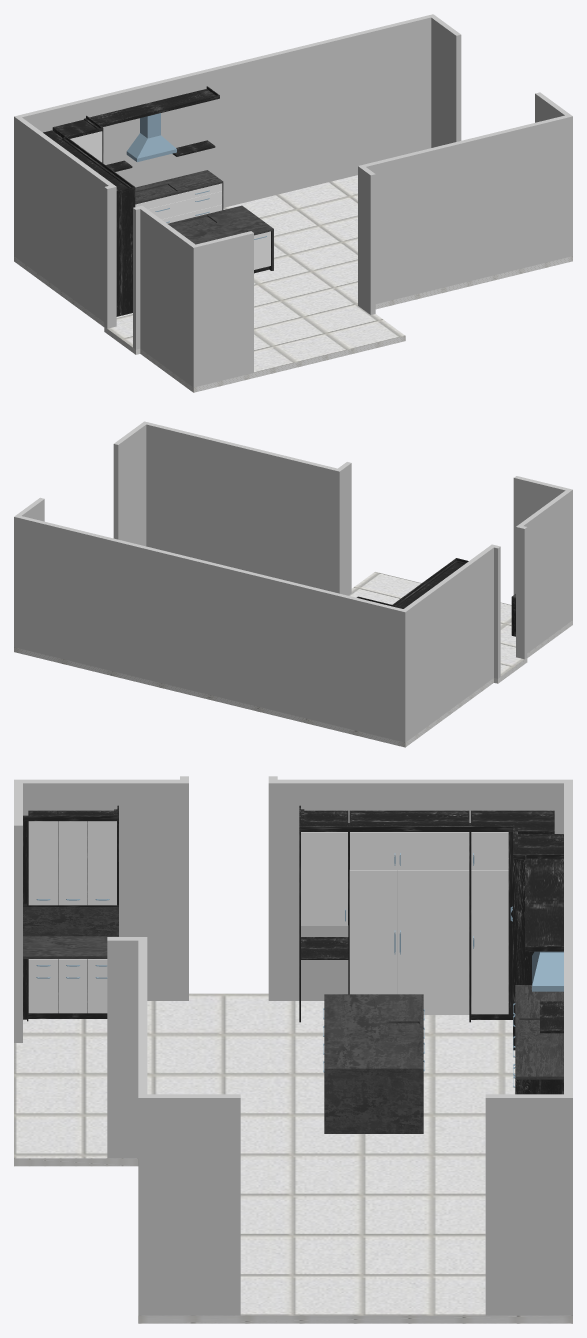
3 renders of one model, top to bottom at view 1: azimuth 30°, elevation 25°; view 2: azimuth 150°, elevation 25°; view 3: azimuth 270°, elevation 25°, orthographic. The views are drawn at different scales.
Parts seen in each view (by area): view 1: Layer:wall, Layer:wall.001, Layer:countertop, Layer:doors, Layer:buildup, Layer:fillers, Layer:cabinets, Layer:hatch; view 2: Layer:wall, Layer:wall.001, Layer:buildup, Layer:cabinets; view 3: Layer:wall.001, Layer:wall, Layer:doors, Layer:countertop, Layer:cabinets, Layer:fillers.002, Layer:buildup, Layer:fillers, Layer:countertop.001, Layer:LV, Layer:hatch, Layer:kick (+2 smaller).
Boxes of the visible parts, box(x1,y1,x2,y2) form: Layer:wall: box(14, 14, 572, 387); Layer:wall.001: box(14, 175, 572, 392); Layer:countertop: box(135, 170, 273, 244); Layer:doors: box(70, 131, 270, 269); Layer:buildup: box(62, 86, 219, 194); Layer:fillers: box(70, 131, 271, 316); Layer:cabinets: box(43, 119, 215, 190); Layer:hatch: box(126, 113, 176, 162); Layer:wall: box(14, 421, 572, 742); Layer:wall.001: box(14, 572, 572, 747); Layer:buildup: box(356, 558, 468, 607); Layer:cabinets: box(396, 562, 464, 608); Layer:wall.001: box(14, 993, 572, 1323); Layer:wall: box(14, 776, 572, 1315); Layer:doors: box(28, 821, 508, 1014); Layer:countertop: box(23, 936, 563, 1079); Layer:cabinets: box(28, 810, 563, 1033); Layer:fillers.002: box(324, 1068, 423, 1133); Layer:buildup: box(23, 805, 563, 951); Layer:fillers: box(23, 821, 563, 1094); Layer:countertop.001: box(23, 907, 118, 936); Layer:LV: box(23, 868, 349, 959); Layer:hatch: box(532, 951, 563, 991); Layer:kick: box(28, 1013, 512, 1019).
Size of the model in its own units: 9.69 by 3.17 by 7.12.
6 materials, 3 textured.
